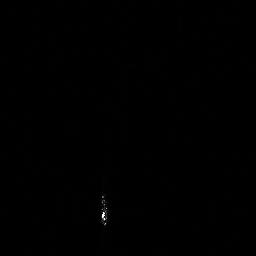ship: (94, 190, 115, 227)
